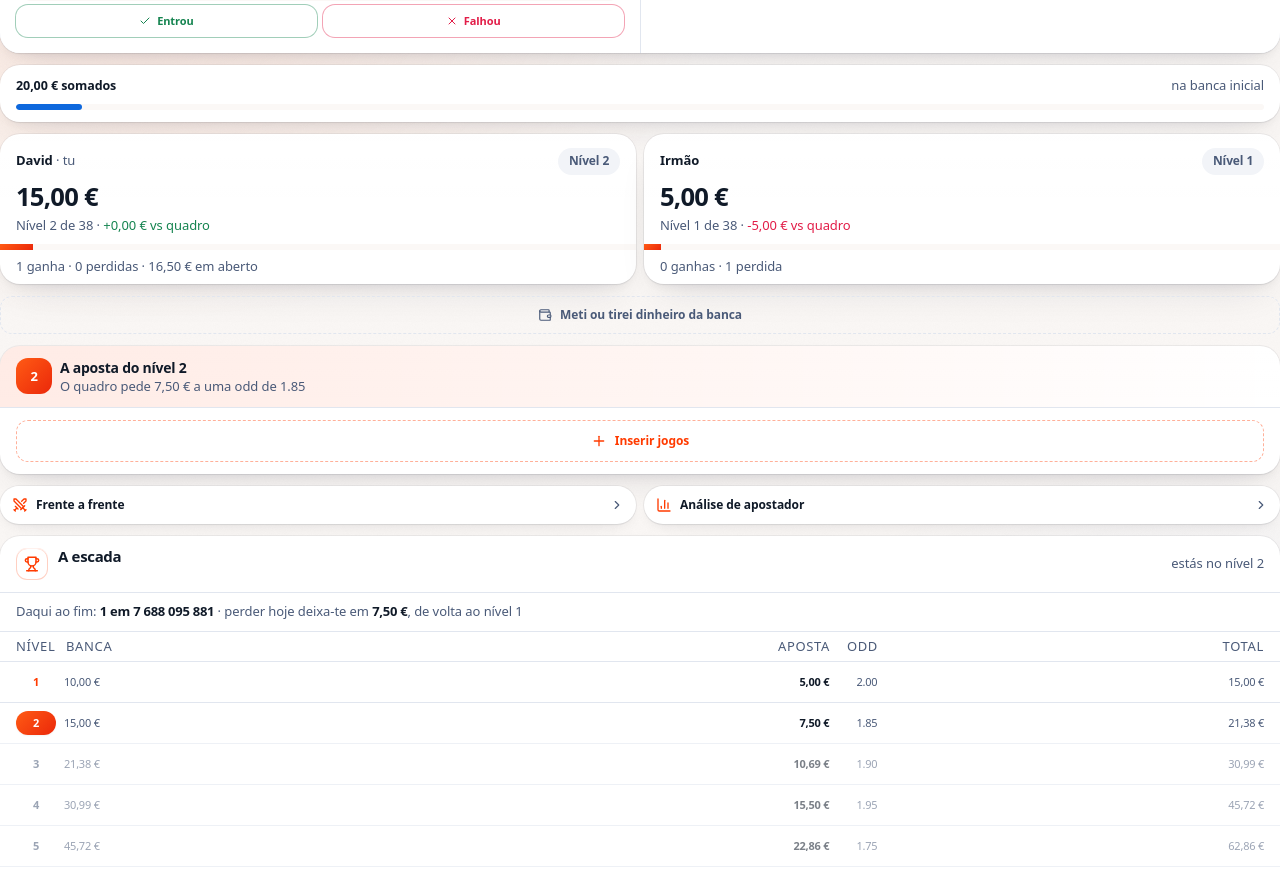
Test: building the day's bet › finds a game further down the board by name
(page scrolled)
Step 1. Click the button "Inserir jogos" → (640, 441), box [16,420,1264,462]
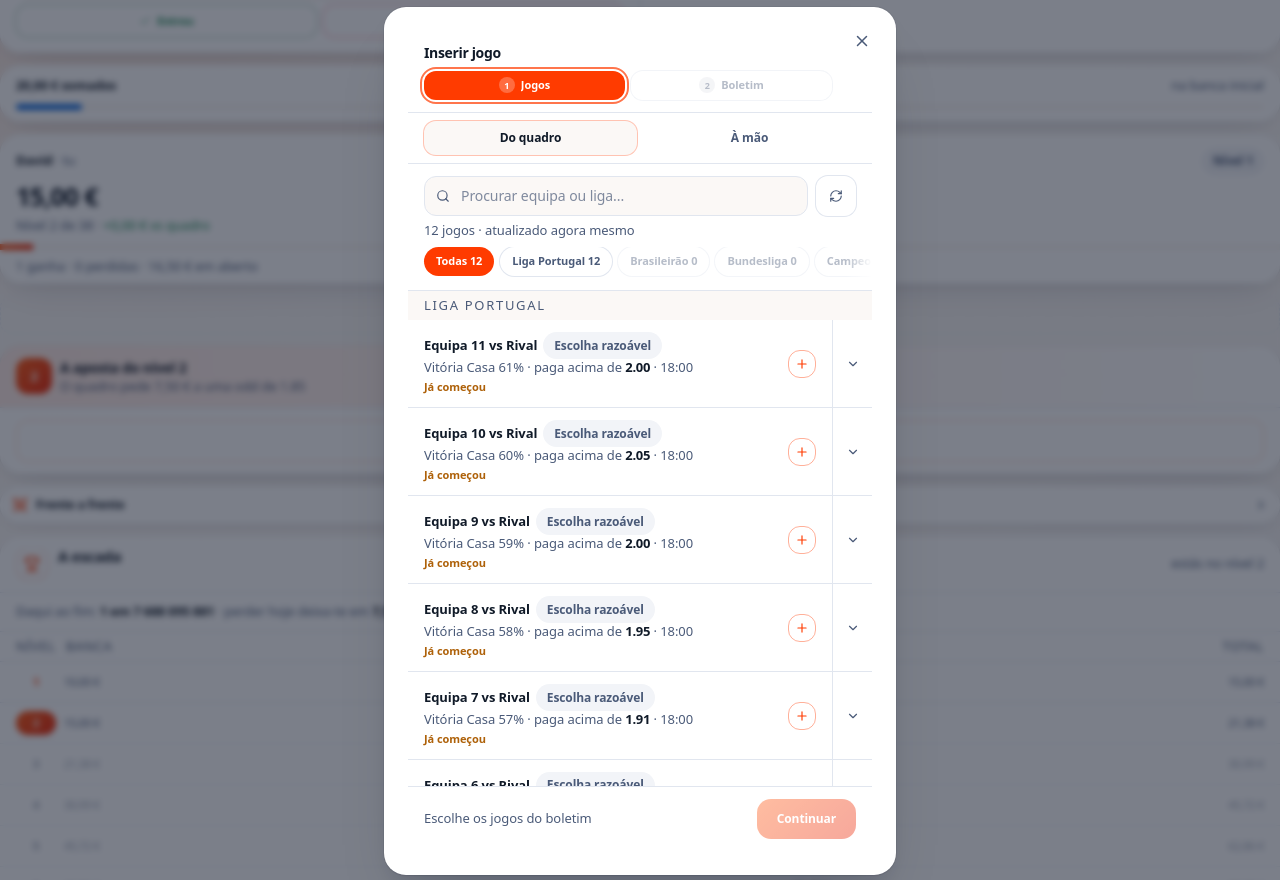
Step 2. Type "Equipa 2" into the field with placeholder "Procurar equipa ou liga..." → (616, 196), box [424,176,808,216]
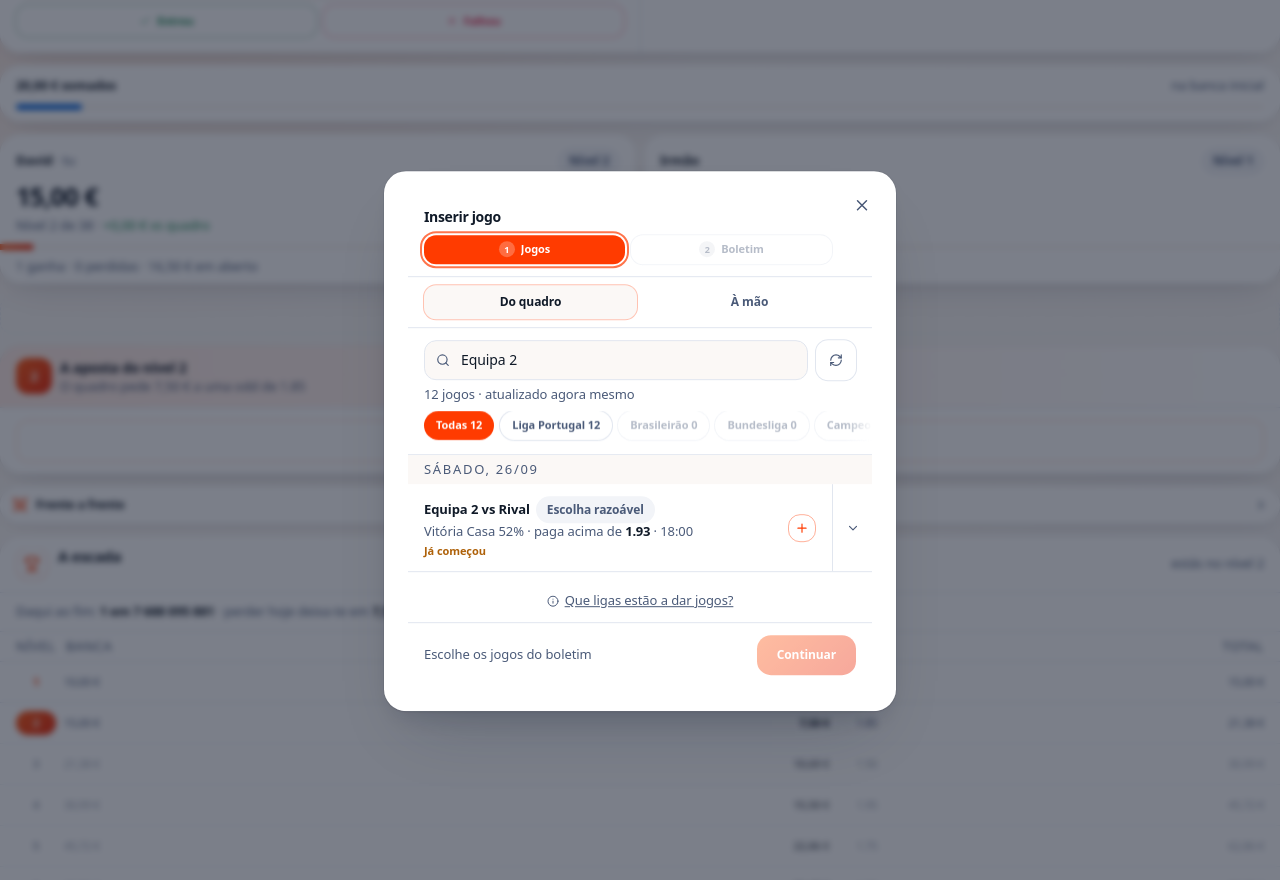
Step 3. Click the button with aria-label "Juntar Equipa 2 vs Rival em " → (620, 528), box [408,484,832,571]
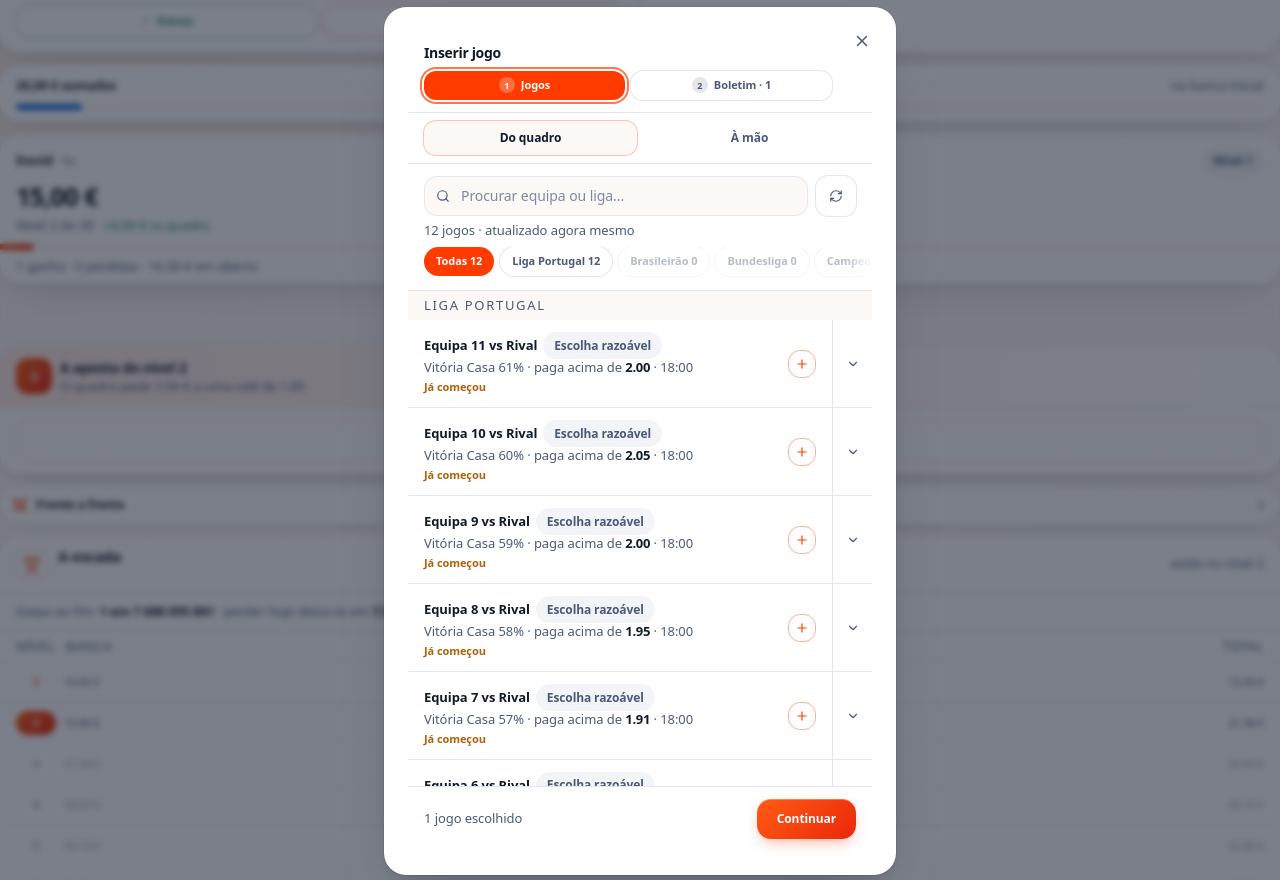
expect the text "1 jogo escolhido" is shown: met, box [424,809,522,827]
Step 4. Click the button "Continuar" → (806, 819), box [757,799,856,839]
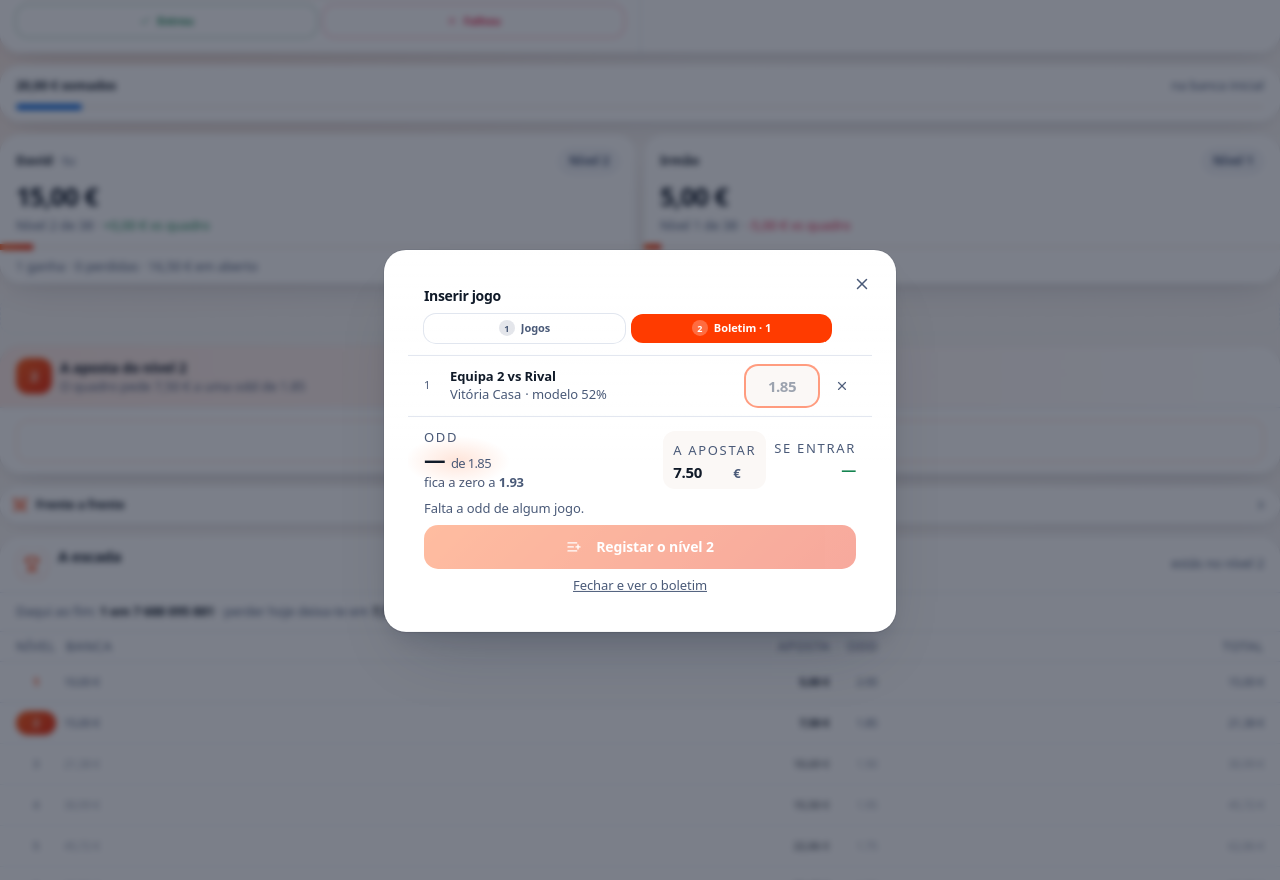
expect the field named "Odd de Equipa 2 vs Rival" is shown: met, box [746,365,818,405]
